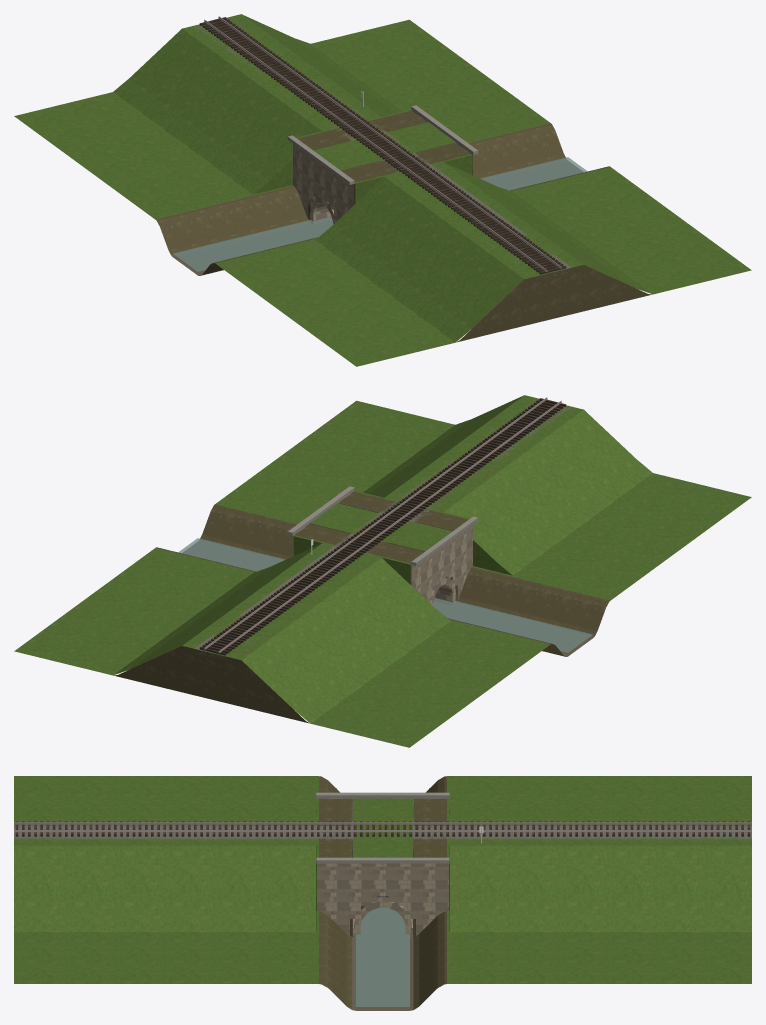
Rendered from P-BR-RAIL.glb.
The picture shows the model from 3 angles, top to bottom: view 1: azimuth 30°, elevation 25°; view 2: azimuth 150°, elevation 25°; view 3: azimuth 270°, elevation 25°; orthographic projection. The views are drawn at different scales.
Visible parts, largest first — view 1: terrain-col, track_ties, embankment_ends-col, water, arch_face-col, fill_cap-col, track-col; view 2: terrain-col, track_ties, embankment_ends-col, water, arch_face-col, fill_cap-col, track-col; view 3: terrain-col, arch_face-col, track_ties, track-col, water, fill_cap-col.
Boxes of the visible parts, box(x1,y1,x2,y2) form: terrain-col: box(14, 14, 751, 366); track_ties: box(199, 16, 566, 274); embankment_ends-col: box(456, 265, 652, 342); water: box(173, 157, 587, 271); arch_face-col: box(287, 105, 478, 224); fill_cap-col: box(313, 122, 456, 170); track-col: box(194, 18, 571, 279); terrain-col: box(14, 395, 751, 747); track_ties: box(199, 397, 566, 655); embankment_ends-col: box(113, 646, 309, 723); water: box(178, 538, 592, 652); arch_face-col: box(287, 486, 478, 605); fill_cap-col: box(309, 503, 452, 551); track-col: box(194, 399, 570, 660); terrain-col: box(14, 776, 751, 1010); arch_face-col: box(316, 792, 449, 935); track_ties: box(14, 821, 751, 836); track-col: box(14, 820, 751, 843); water: box(356, 907, 409, 1006); fill_cap-col: box(353, 798, 412, 864).
Bounding box in the file's own units: 40 × 8.67 × 60.
12 materials, 7 textured.
